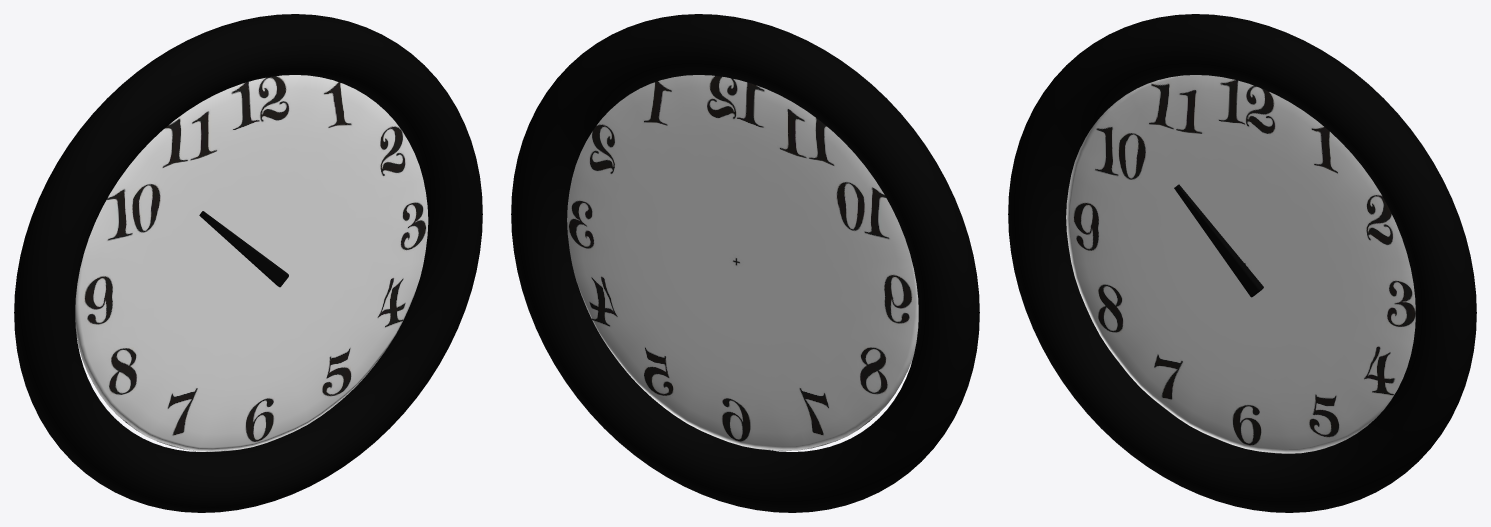
The model's file is clock.DAE.
3 views of the same model, side by side, from view 1: azimuth 30°, elevation 25°; view 2: azimuth 150°, elevation 25°; view 3: azimuth 330°, elevation 25° (orthographic).
Visible parts, largest first — view 1: pCylinder1, pTorus1, pCube1; view 2: pCylinder1, pTorus1; view 3: pCylinder1, pTorus1, pCube1.
Boxes of the visible parts, x1=… form: pCylinder1: x1=75, y1=75, x2=428, y2=451; pTorus1: x1=14, y1=14, x2=482, y2=512; pCube1: x1=199, y1=211, x2=288, y2=287; pCylinder1: x1=567, y1=75, x2=918, y2=450; pTorus1: x1=511, y1=14, x2=979, y2=512; pCylinder1: x1=1066, y1=75, x2=1415, y2=453; pTorus1: x1=1008, y1=14, x2=1476, y2=512; pCube1: x1=1174, y1=184, x2=1263, y2=297.
Size of the model in its own units: 0.0693 by 0.00805 by 0.0693.
Materials: 2 (1 with a texture image).
